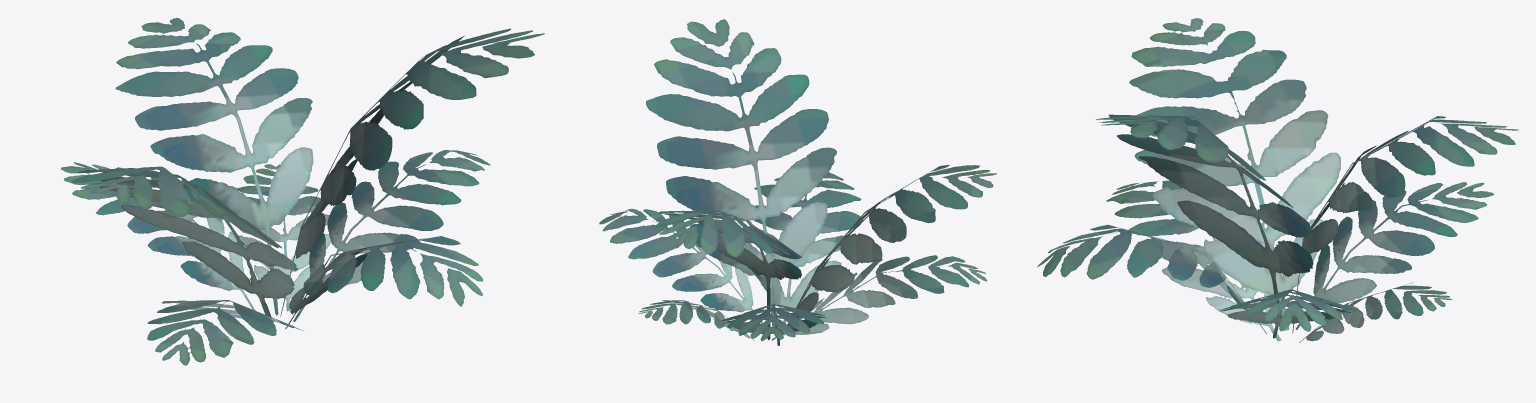
Rendered from pref_sm_beach_winter_techptree04_lv3.fbx.
The picture shows the model from 3 angles, left to right: view 1: azimuth 30°, elevation 25°; view 2: azimuth 150°, elevation 25°; view 3: azimuth 270°, elevation 25°; orthographic projection. The views are drawn at different scales.
Visible parts, largest first — view 1: pref_sm_beach_winter_techptree04_lv3; view 2: pref_sm_beach_winter_techptree04_lv3; view 3: pref_sm_beach_winter_techptree04_lv3.
Boxes of the visible parts, x1,y1,x2,y2 form: pref_sm_beach_winter_techptree04_lv3: (61,18,544,365); pref_sm_beach_winter_techptree04_lv3: (599,19,996,345); pref_sm_beach_winter_techptree04_lv3: (1037,18,1518,342).
Size of the model in its own units: 1.73 by 1.05 by 1.53.
